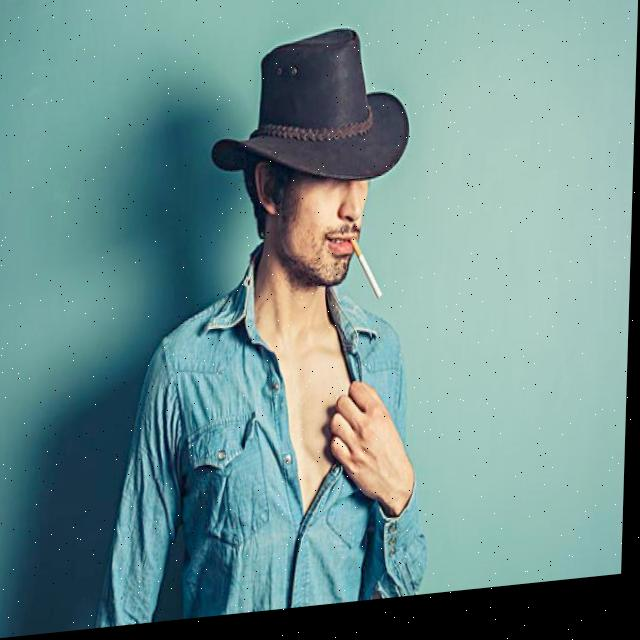cigarette: (351, 244, 387, 309)
